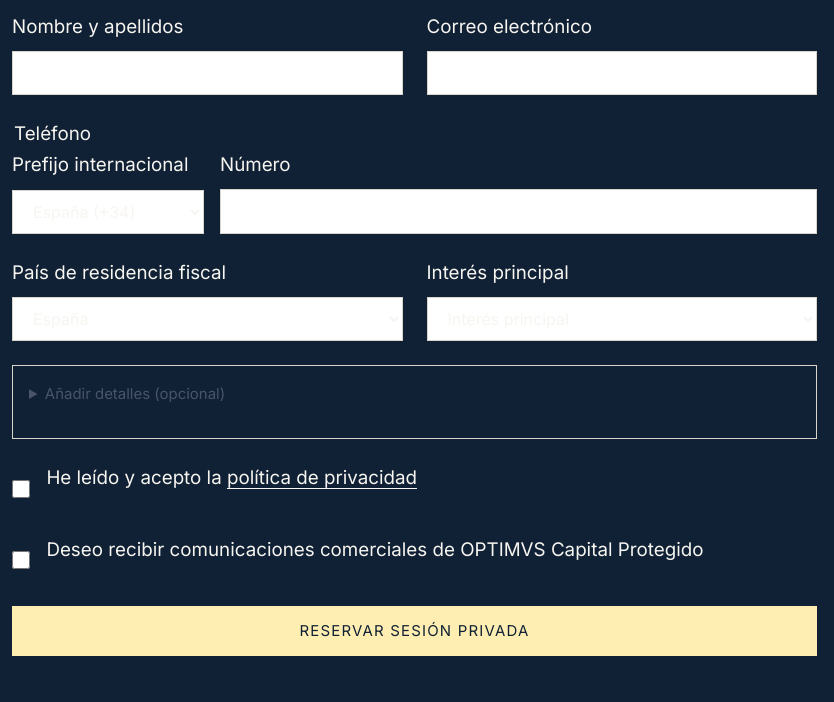
ContactForm › FRM-17 · campos etiquetados, operables y errores anunciados en su control
The width and height of the screenshot is (834, 702).
Click the button "Reservar sesión privada" at [414, 631], box [12, 606, 817, 656]
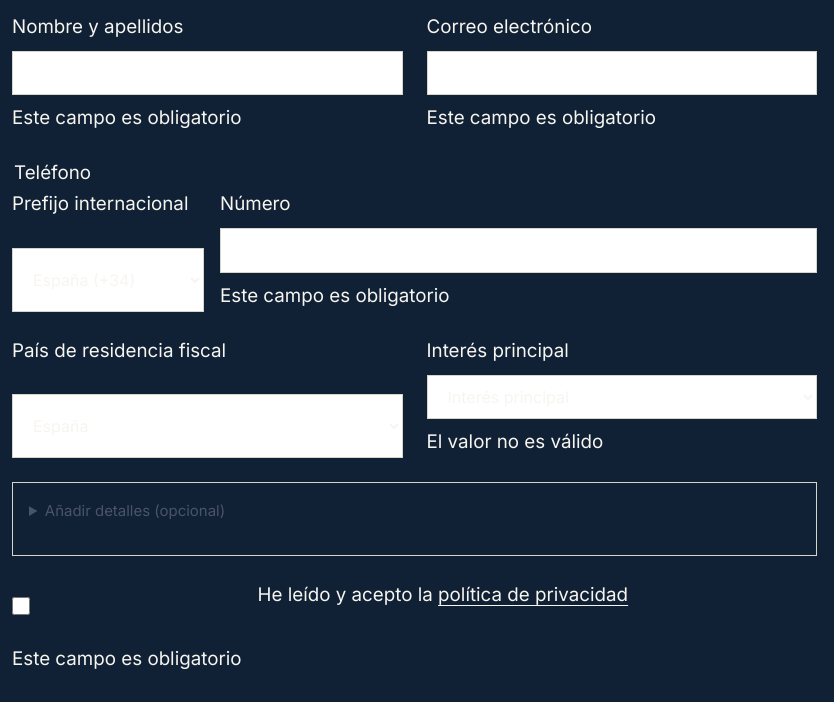
Check: the field labelled "Correo electrónico" is enabled, box [426, 51, 817, 95]
Check: the message "Este campo es obligatorio" below "Nombre y apellidos" is shown, box [12, 106, 242, 129]
